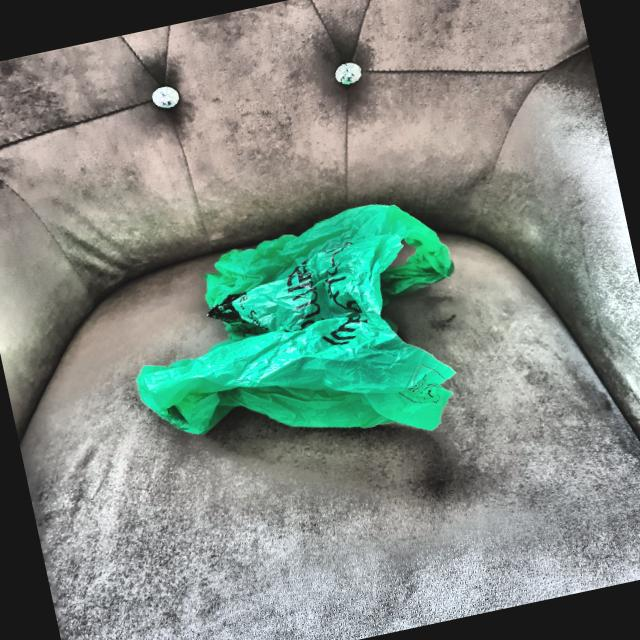plastic bag: (120, 190, 478, 475)
